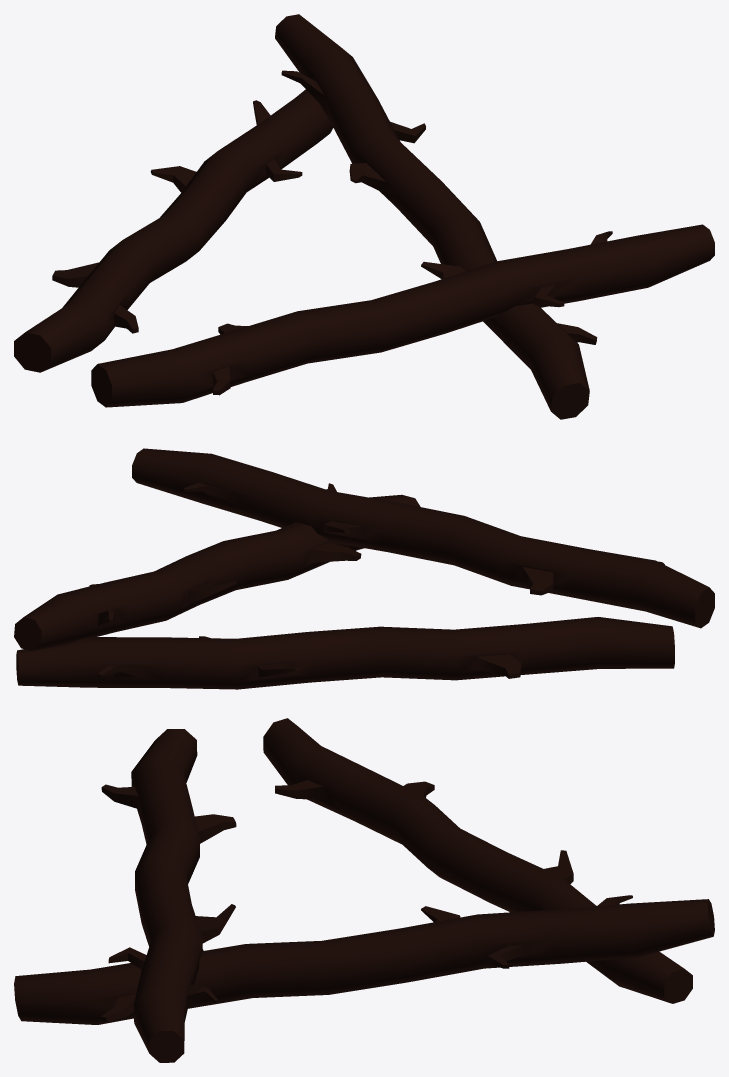
File: SM_StickNest.FBX
The picture shows the model from 3 angles, top to bottom: view 1: azimuth 30°, elevation 25°; view 2: azimuth 150°, elevation 25°; view 3: azimuth 270°, elevation 25°; orthographic projection. The views are drawn at different scales.
Visible parts, largest first — view 1: SM_StickNest; view 2: SM_StickNest; view 3: SM_StickNest.
Boxes of the visible parts, <box> form: SM_StickNest: <box>14,14,714,419</box>; SM_StickNest: <box>14,448,714,689</box>; SM_StickNest: <box>14,718,714,1062</box>.
Size of what is drawn, in the model's own units: 78.7 by 74.55 by 17.07.
